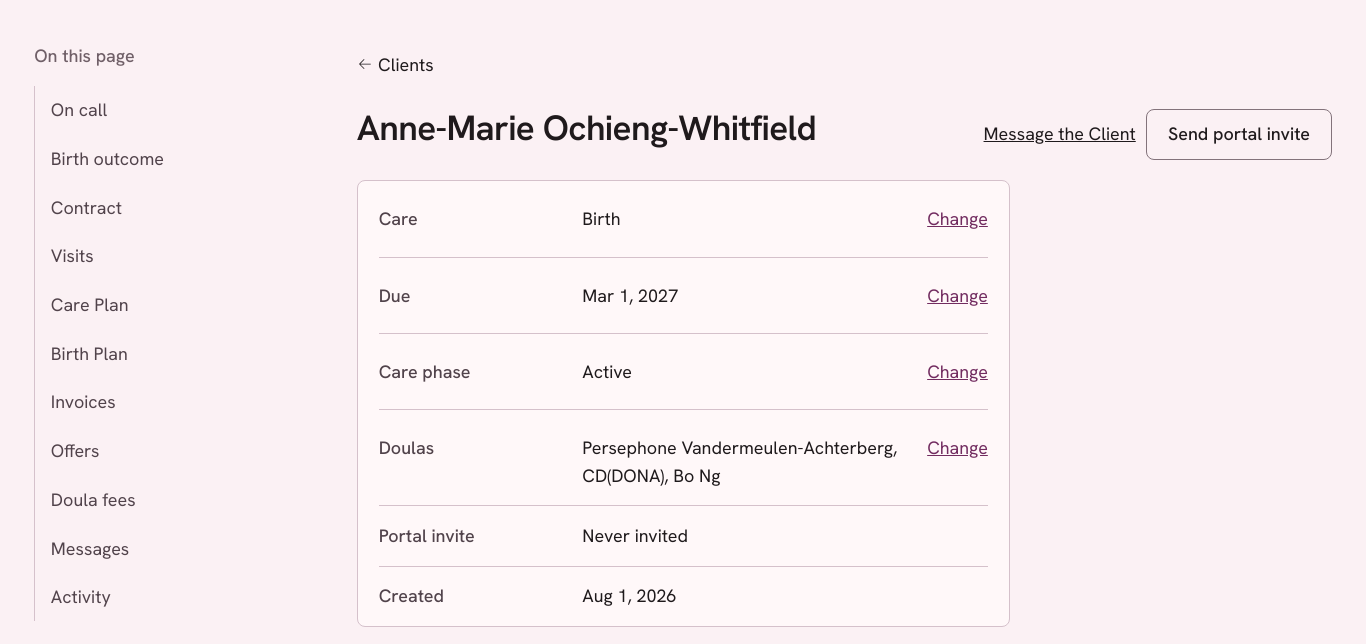
Test case: the due date's Change (#2013) › asks for a date when all three boxes are emptied
Click the button "Change" in the row of "Mar 1, 2027". click: (958, 295)
box: [927,273,988,317]
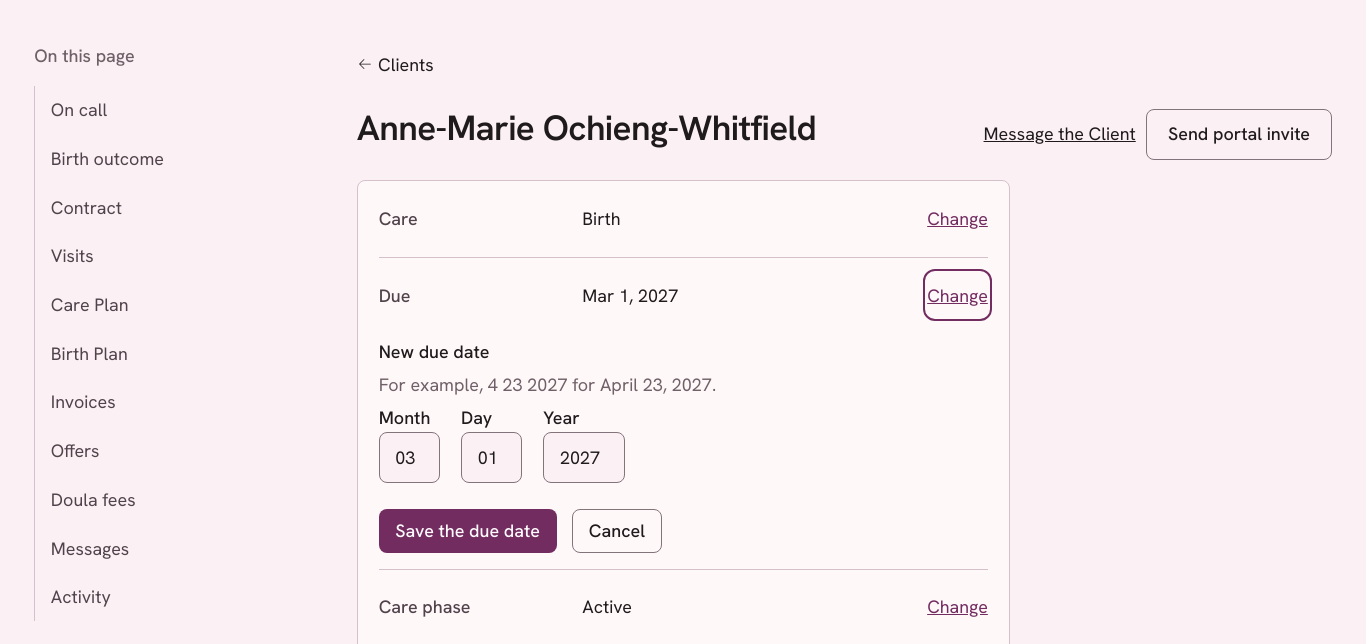
Clear the field labelled "Month". click: (409, 458)
box: [379,432,440,483]
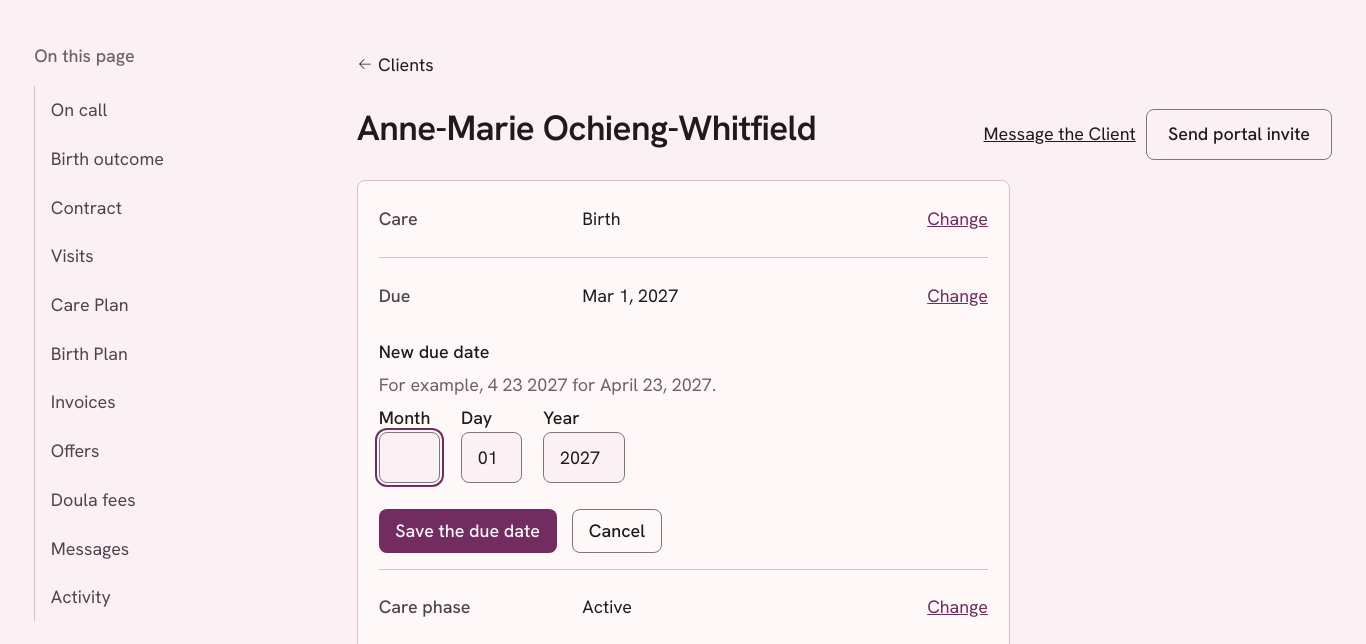
Clear the field labelled "Day". click: (492, 458)
box: [461,432,522,483]
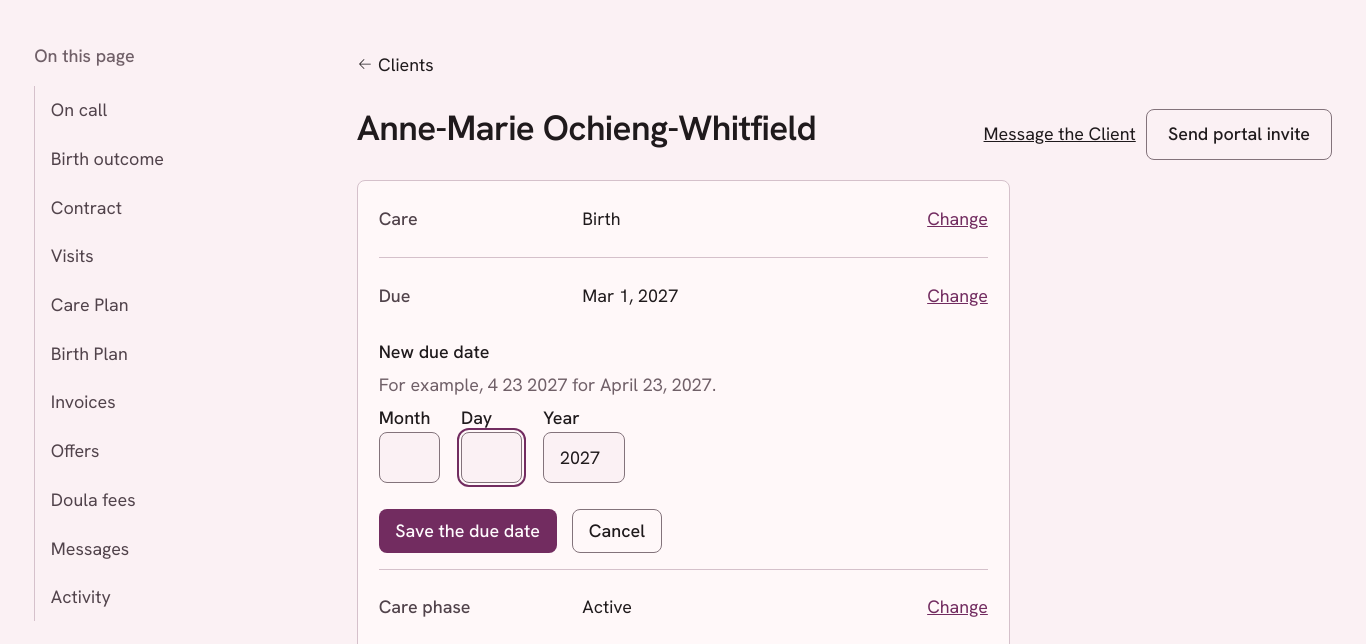
Clear the field labelled "Year". click: (584, 458)
box: [543,432,625,483]
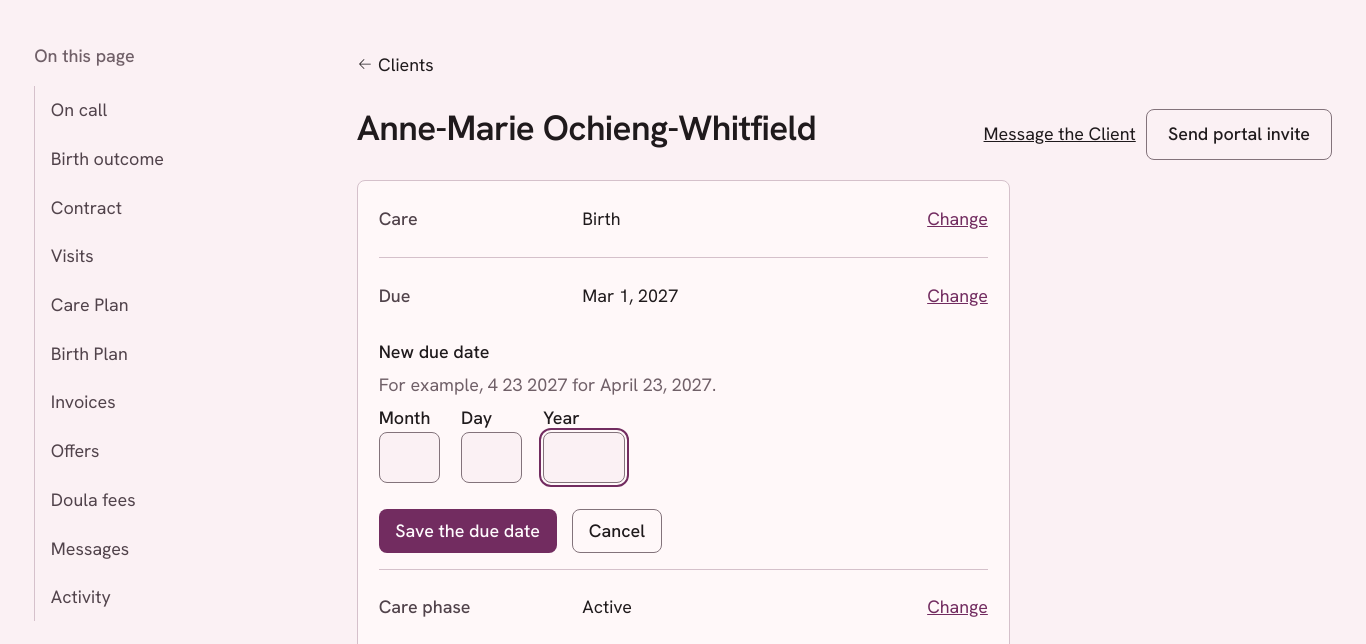
Click the button "Save the due date". click: (468, 531)
box: [379,509,556,553]
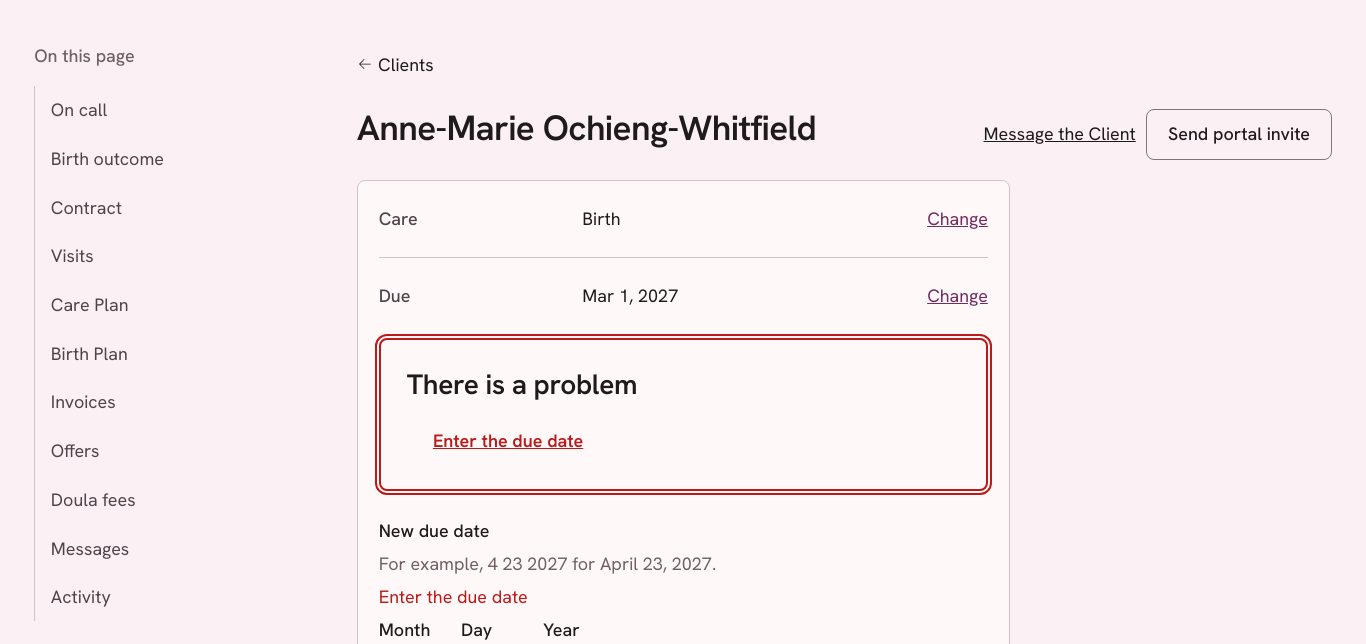
expect the link "Enter the due date" is shown: met, box [433,429,583,452]
